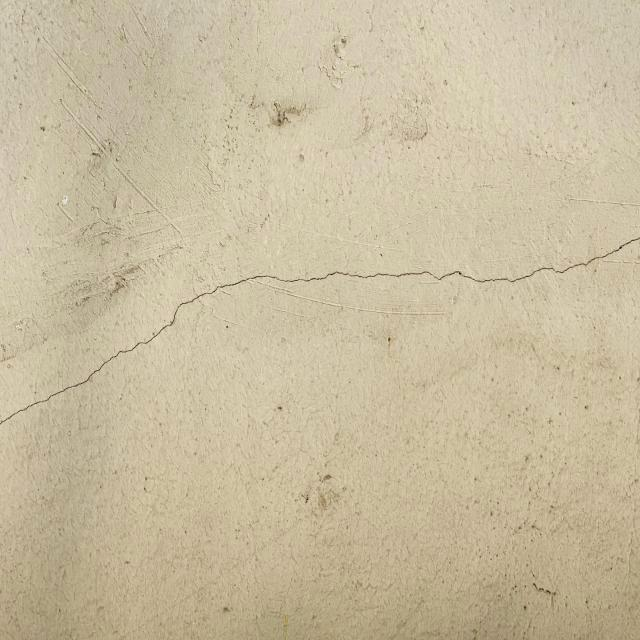SurfaceCrack: (0, 222, 639, 453)
